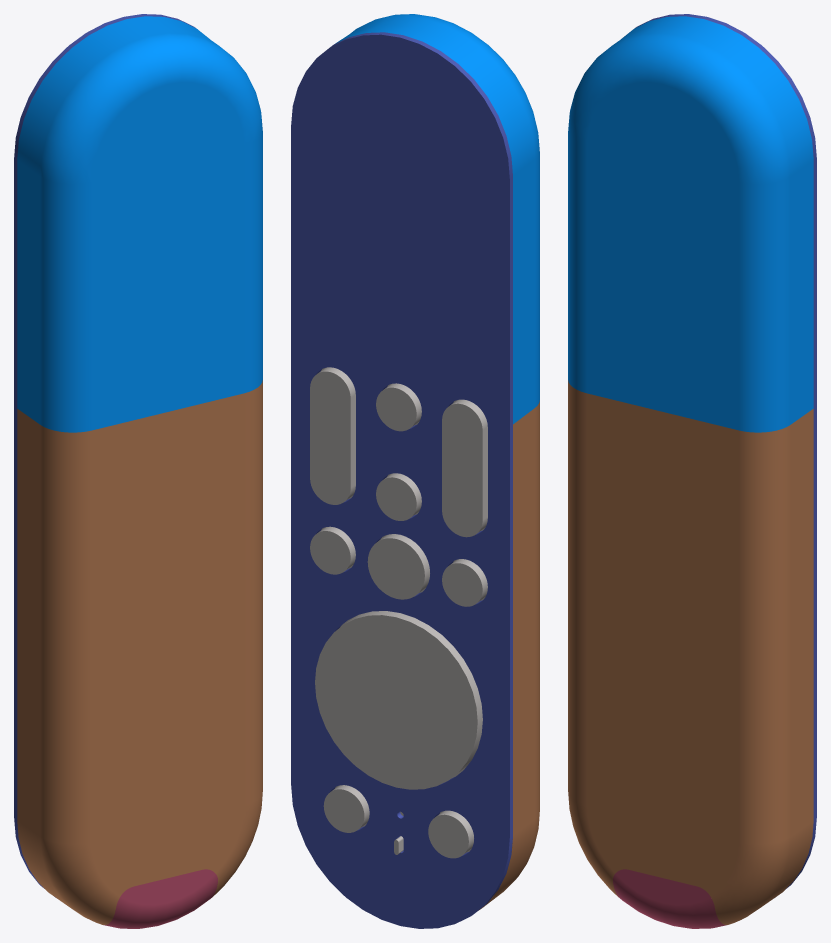
Rendered from remote3.glb.
3 views of the same model, side by side, from view 1: azimuth 30°, elevation 25°; view 2: azimuth 150°, elevation 25°; view 3: azimuth 330°, elevation 25° (orthographic).
Parts seen in each view (by area): view 1: 02_下壳, 03_电池盖, 04_红外发射盖, 01_上壳; view 2: 01_上壳, 06_硅胶按键, 03_电池盖, 02_下壳; view 3: 02_下壳, 03_电池盖, 04_红外发射盖, 01_上壳.
Boxes of the visible parts, box(x1,y1,x2,y2) form: 02_下壳: box(17, 380, 262, 924); 03_电池盖: box(17, 16, 262, 432); 04_红外发射盖: box(103, 869, 217, 928); 01_上壳: box(14, 14, 195, 897); 01_上壳: box(291, 32, 512, 928); 06_硅胶按键: box(310, 367, 487, 858); 03_电池盖: box(335, 14, 539, 424); 02_下壳: box(479, 400, 539, 909); 02_下壳: box(568, 380, 813, 924); 03_电池盖: box(568, 16, 813, 432); 04_红外发射盖: box(613, 869, 726, 928); 01_上壳: box(635, 14, 816, 889).
Bounding box in the file's own units: 0.0398 × 0.1544 × 0.0153.
